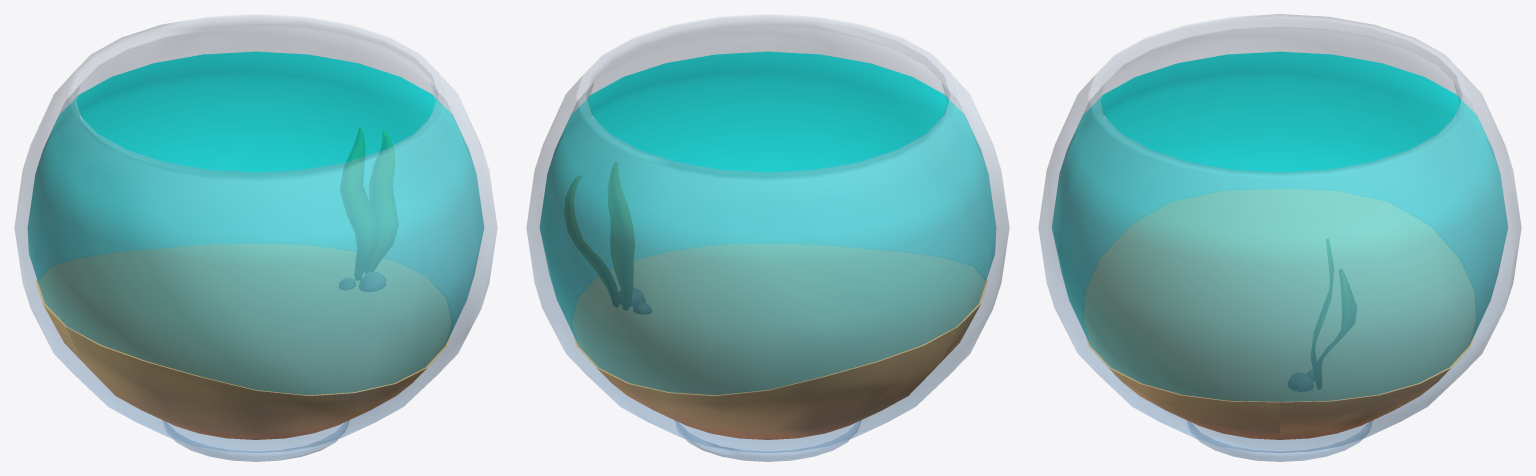
File: Fish_Bowl.fbx
The picture shows the model from 3 angles, left to right: view 1: azimuth 30°, elevation 25°; view 2: azimuth 150°, elevation 25°; view 3: azimuth 270°, elevation 25°; orthographic projection.
Visible parts, largest first — view 1: Glass, Water, Sand; view 2: Glass, Water, Sand; view 3: Glass, Water, Sand.
Part boxes in pixels (x1,y1,x2,y2): Glass: [14, 14, 497, 461]; Water: [27, 51, 484, 394]; Sand: [36, 127, 450, 439]; Glass: [526, 14, 1009, 461]; Water: [539, 51, 996, 394]; Sand: [565, 162, 987, 439]; Glass: [1038, 14, 1521, 461]; Water: [1052, 51, 1507, 401]; Sand: [1084, 188, 1475, 439].
Size of the model in its own units: 110 by 82.61 by 110.
Materials: 3 (2 with a texture image).
